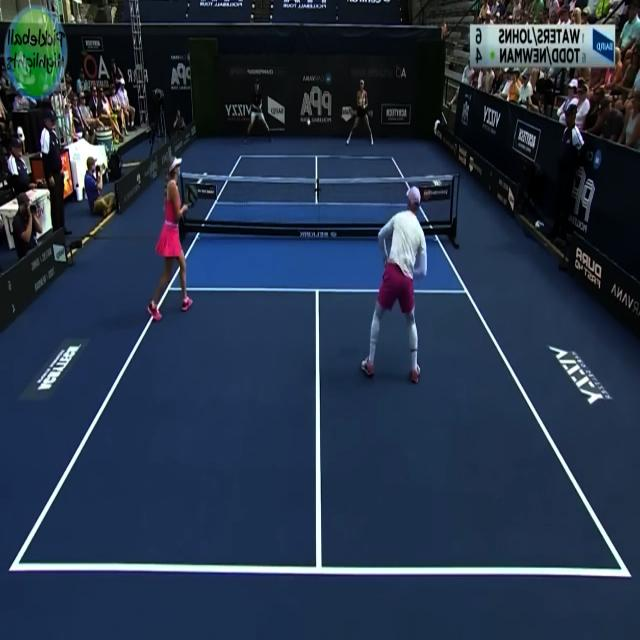Pickleball: (306, 118, 312, 124)
